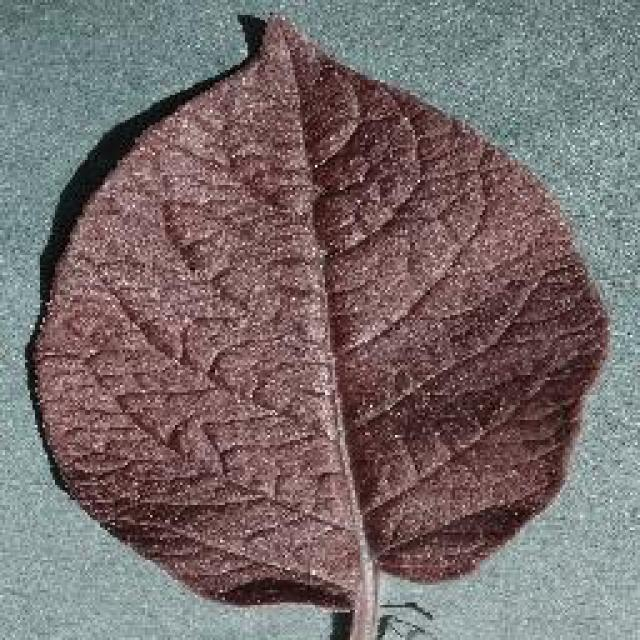Potato___healthy: (29, 6, 619, 638)
